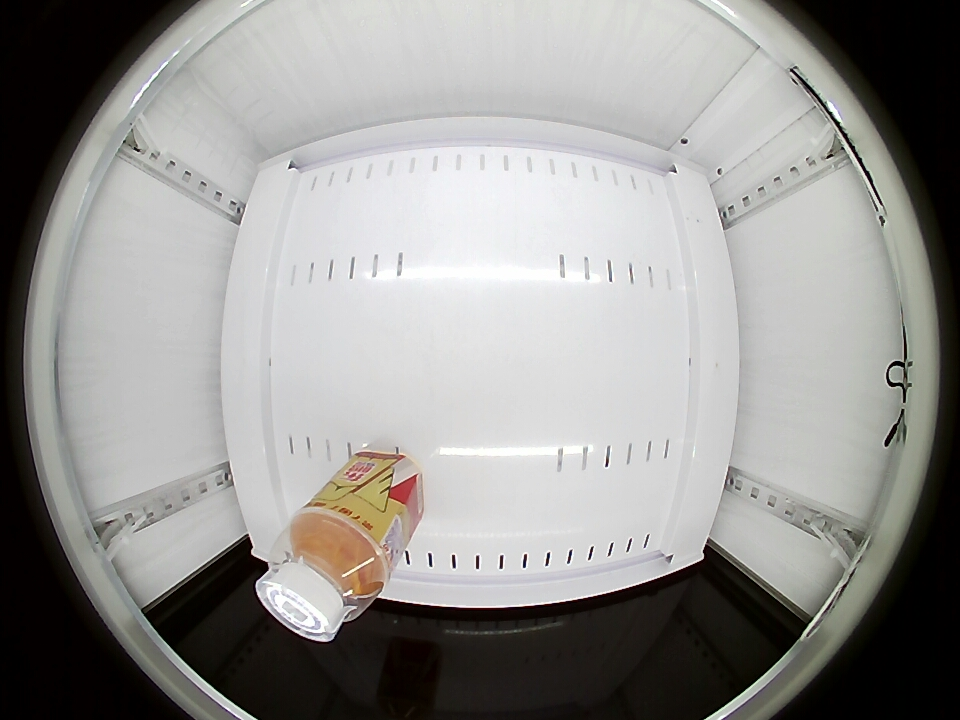dongpeng-b: (256, 508, 390, 641)
